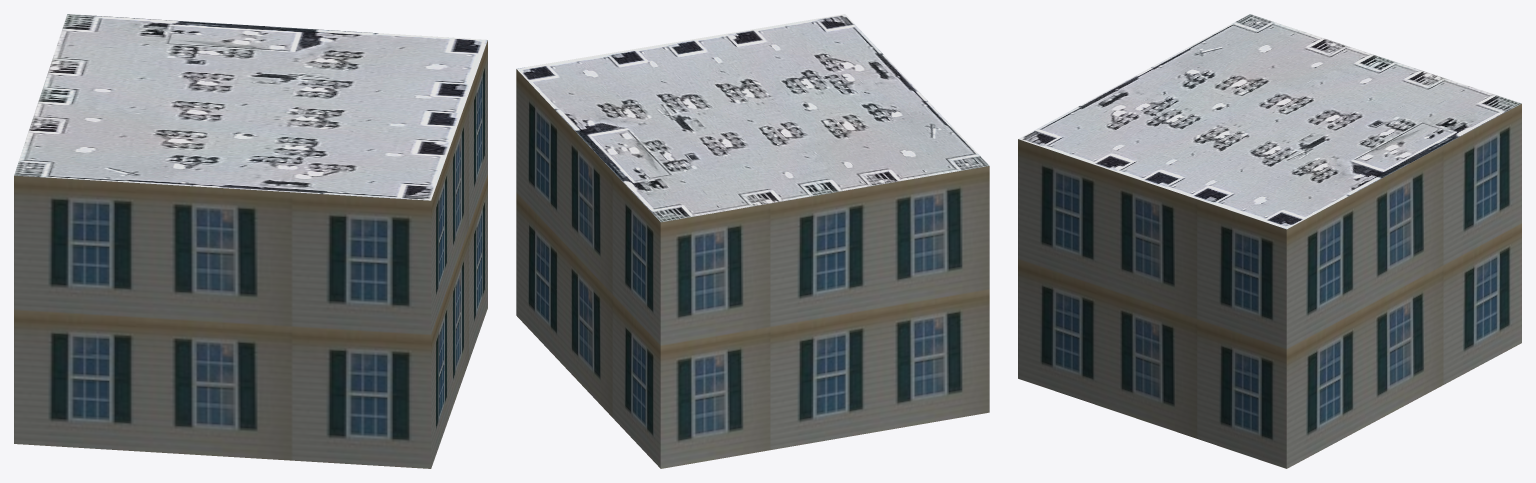
Rendered from ResTex__2121.fbx.
3 views of the same model, side by side, from view 1: azimuth 30°, elevation 25°; view 2: azimuth 150°, elevation 25°; view 3: azimuth 270°, elevation 25° (orthographic). The views are drawn at different scales.
Parts seen in each view (by area): view 1: CityEngineMaterial_7_m, CityEngineMaterial_8_m; view 2: CityEngineMaterial_7_m, CityEngineMaterial_8_m; view 3: CityEngineMaterial_7_m, CityEngineMaterial_8_m.
Boxes of the visible parts, box(x1,y1,x2,y2) form: CityEngineMaterial_7_m: box(14, 40, 487, 468); CityEngineMaterial_8_m: box(14, 14, 487, 200); CityEngineMaterial_7_m: box(516, 69, 989, 468); CityEngineMaterial_8_m: box(516, 14, 989, 221); CityEngineMaterial_7_m: box(1018, 103, 1521, 468); CityEngineMaterial_8_m: box(1018, 14, 1521, 229).
Size of the model in its own units: 11.57 by 6 by 11.44.
Materials: 2 (2 with a texture image).
